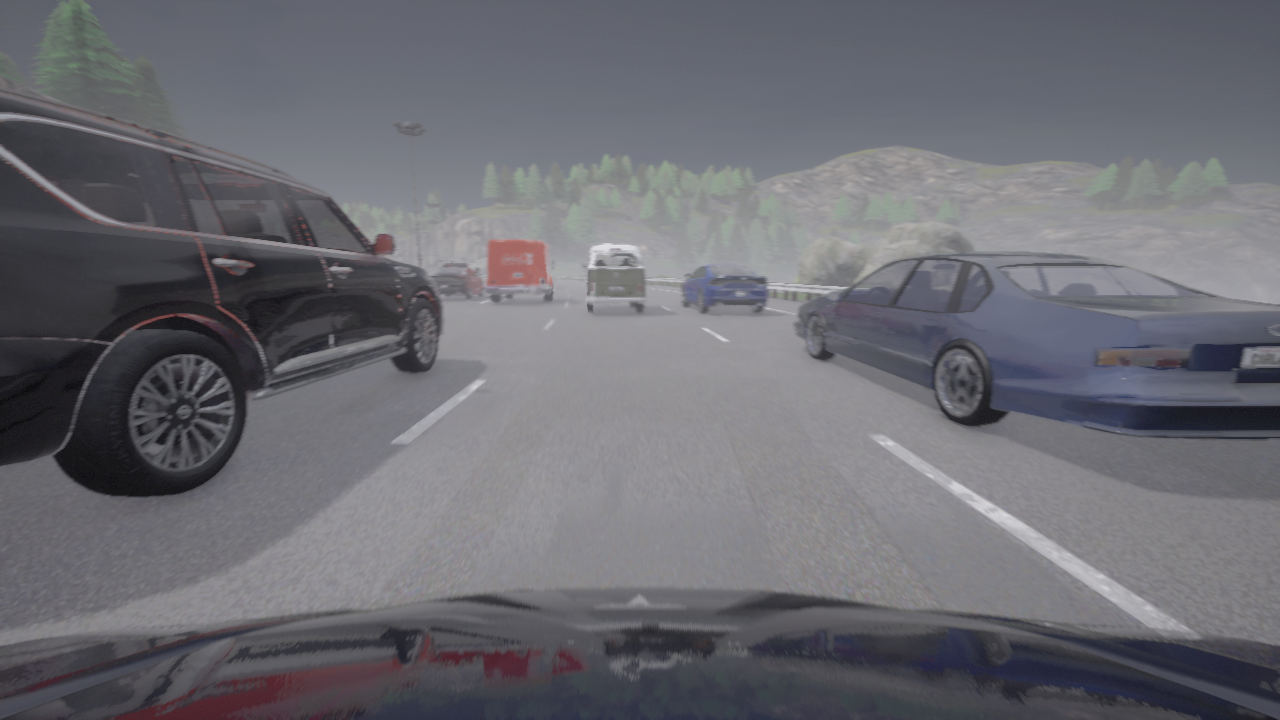cyclist: (0, 588, 1279, 719), (794, 253, 1279, 439), (582, 244, 645, 313), (682, 262, 767, 313), (486, 240, 555, 302), (429, 264, 483, 299)
